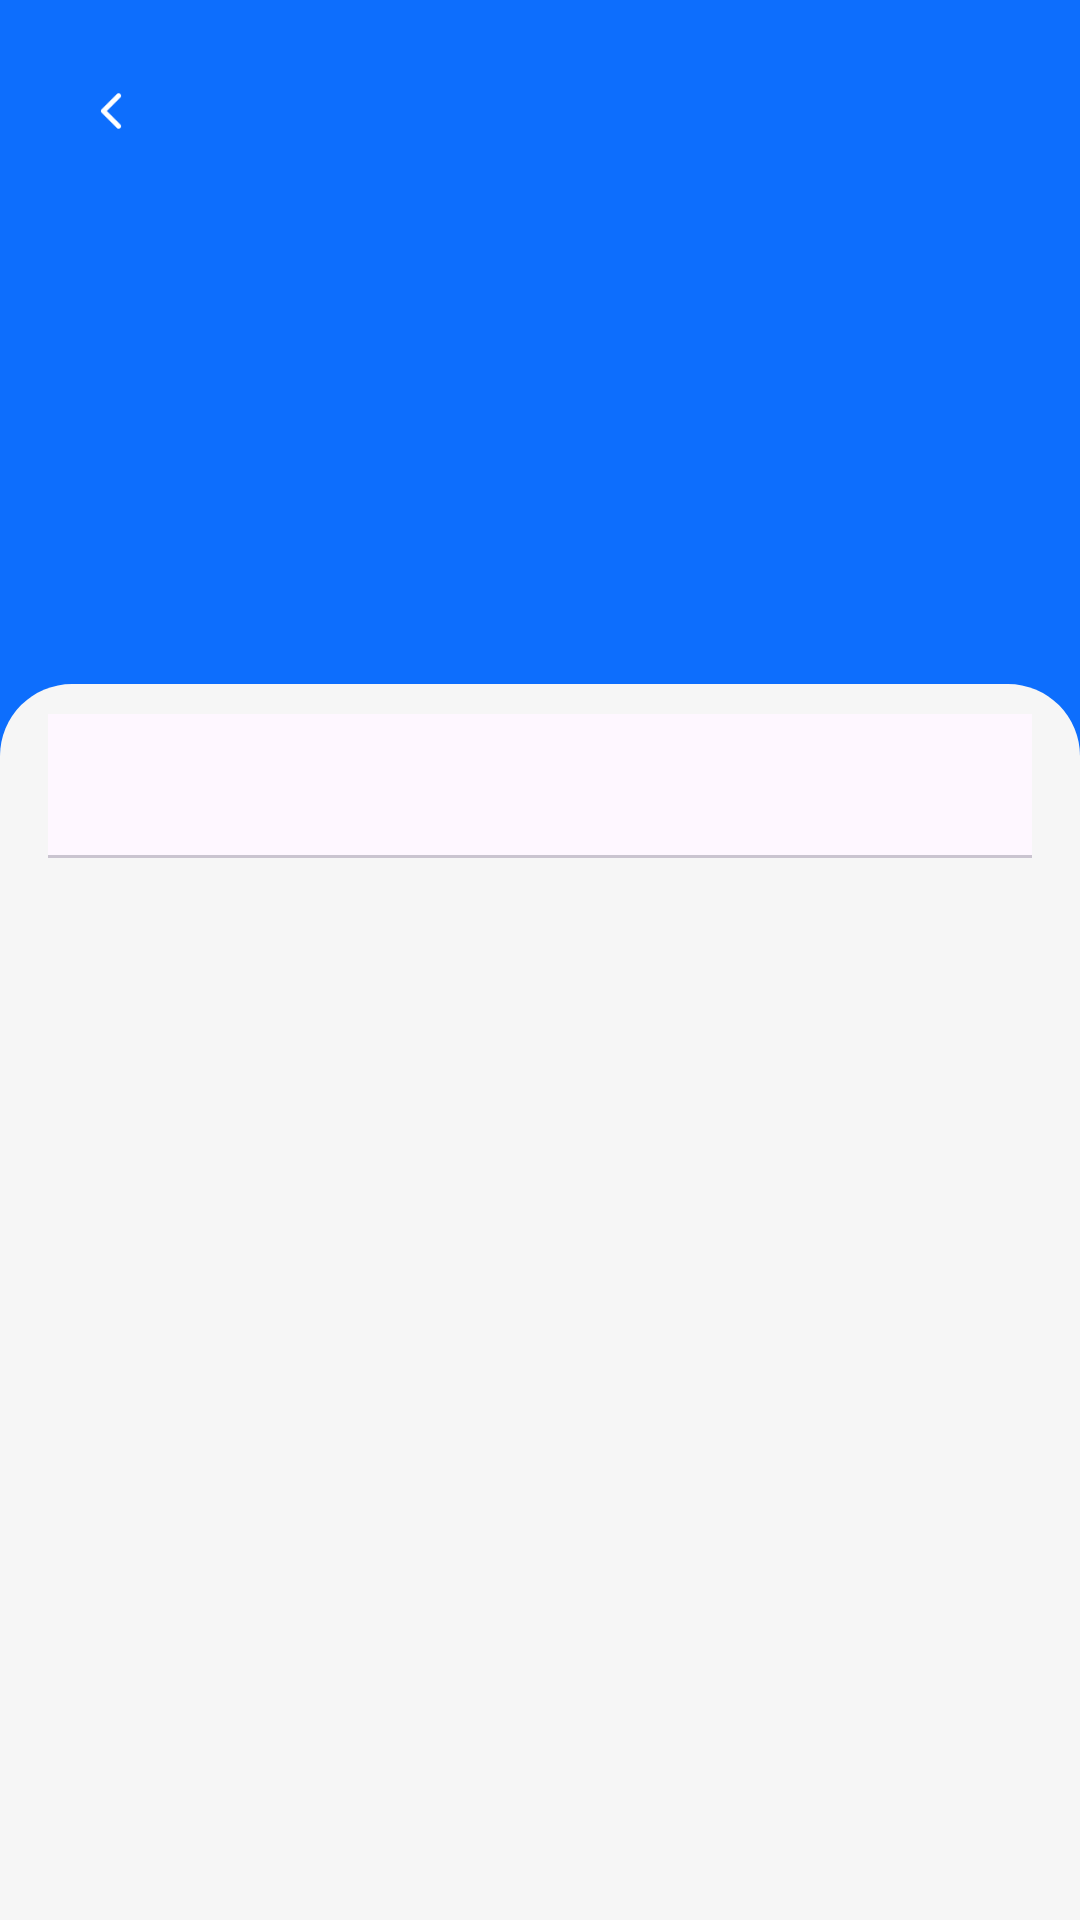

Icons on this 1080 × 1920 Android screen, each with the point to tap as (x,y):
back: (111,111)
